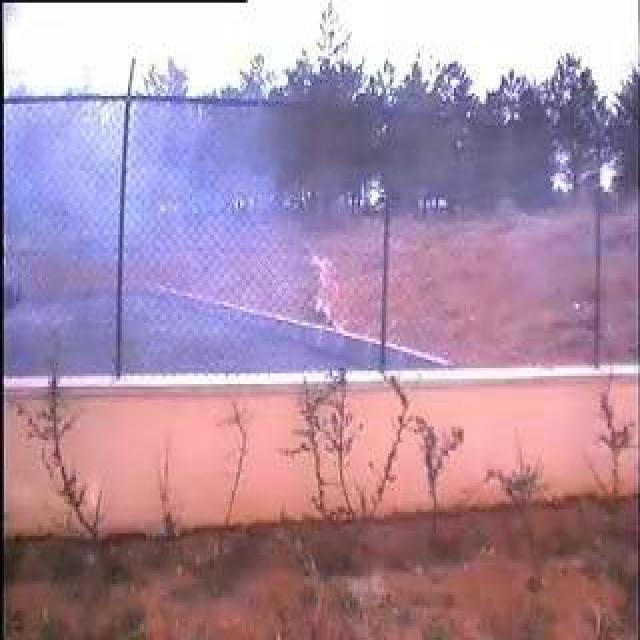Smoke: (42, 108, 288, 356)
